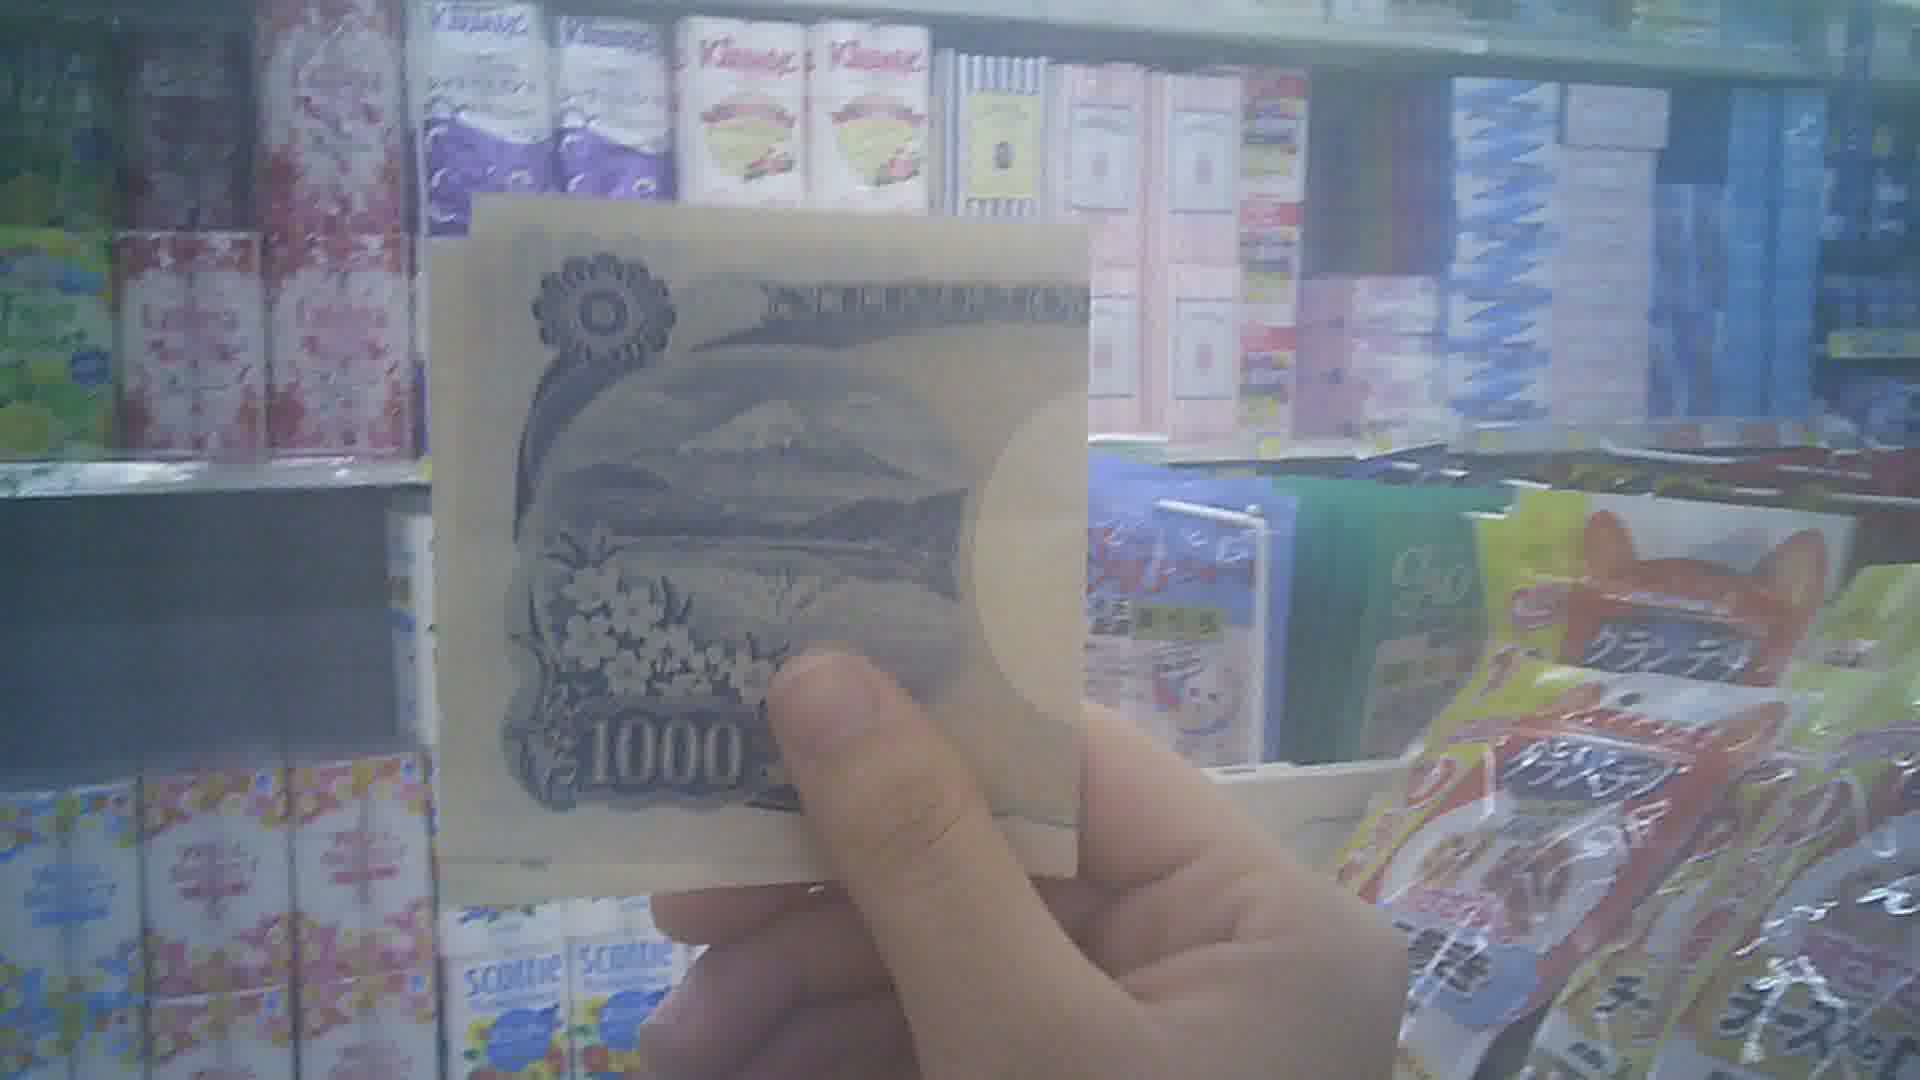1,000 Yen: (409, 179, 1114, 876)
